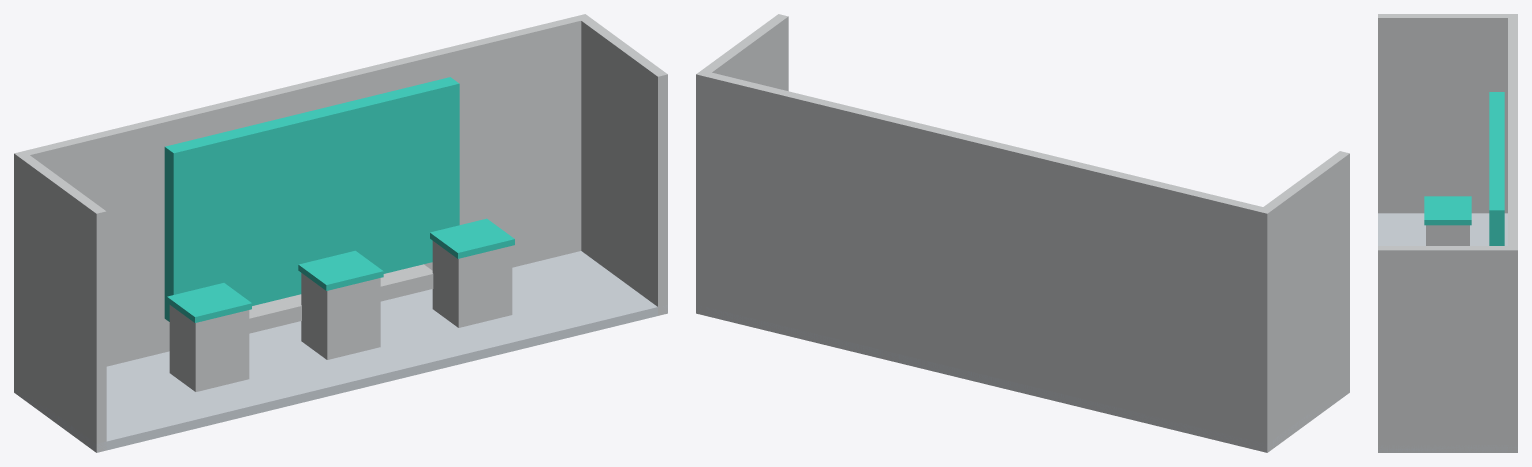
3 views of the same model, side by side, from view 1: azimuth 30°, elevation 25°; view 2: azimuth 150°, elevation 25°; view 3: azimuth 270°, elevation 25° (orthographic). The views are drawn at different scales.
Visible parts, largest first — view 1: Exhibition Booth Concept; view 2: Exhibition Booth Concept; view 3: Exhibition Booth Concept.
Boxes of the visible parts, bbox=[...] form: Exhibition Booth Concept: bbox=[14, 14, 667, 452]; Exhibition Booth Concept: bbox=[696, 14, 1349, 452]; Exhibition Booth Concept: bbox=[1378, 14, 1517, 452].
Bounding box in the file's own units: 8 × 3.2 × 2.
